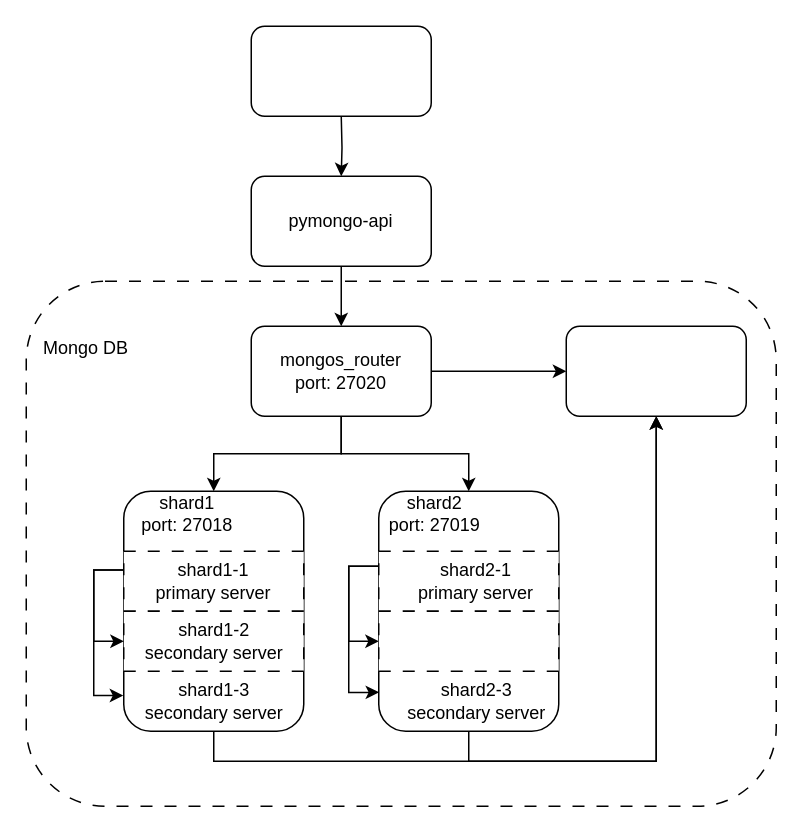
Some shapes in this 803 by 833 pixel diagram are drawn without their labels. Each missing label, with the centre of its shape:
configSrv port: 27017: pixel 655 370
shard2-2 secondary server: pixel 468 640
Пользователи: pixel 340 70
